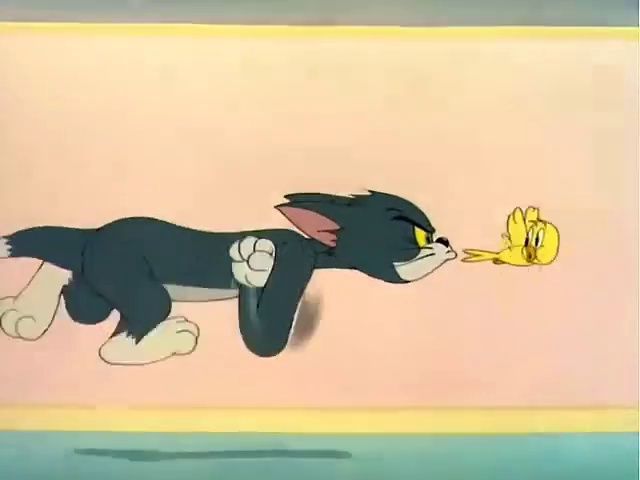tom: (5, 128, 464, 418)
